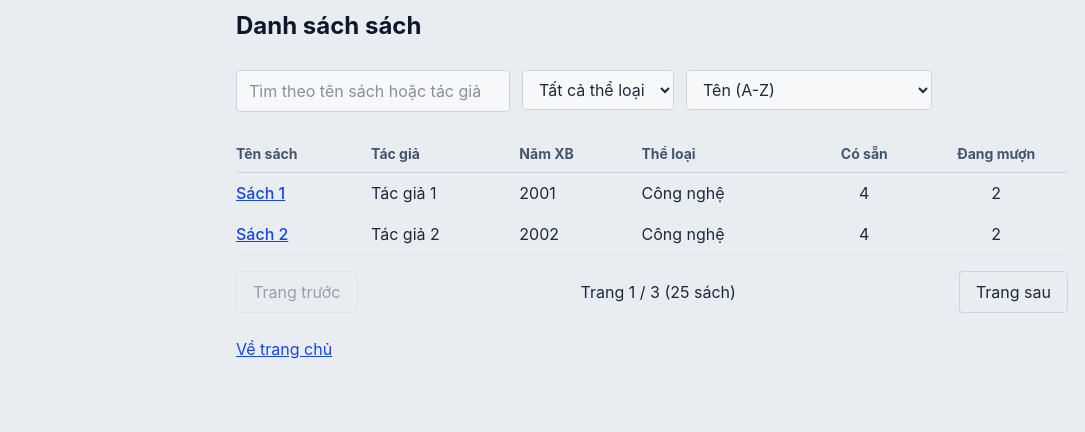
Test: BookList › keeps what the user keeps typing after the debounced URL update
Expected: the table is shown, [236,136,1068,255]
Type "abc" into the search field labelled "Tìm theo tên sách hoặc tác giả" at (373, 91), box [236,70,510,112]
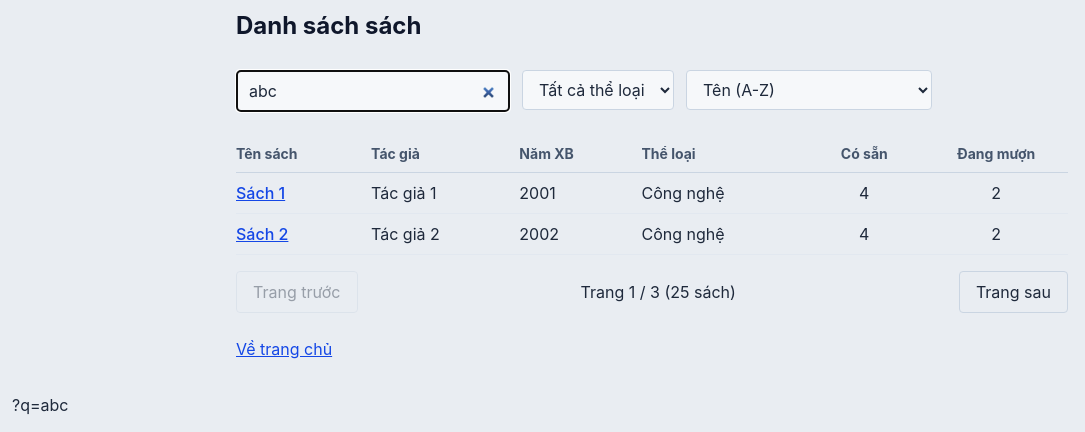
Expected: the text with test id "url" reads "?q=abc", [12,395,68,415]
Type "d" into the search field named "Tìm theo tên sách hoặc tác giả" at (373, 91), box [236,70,510,112]
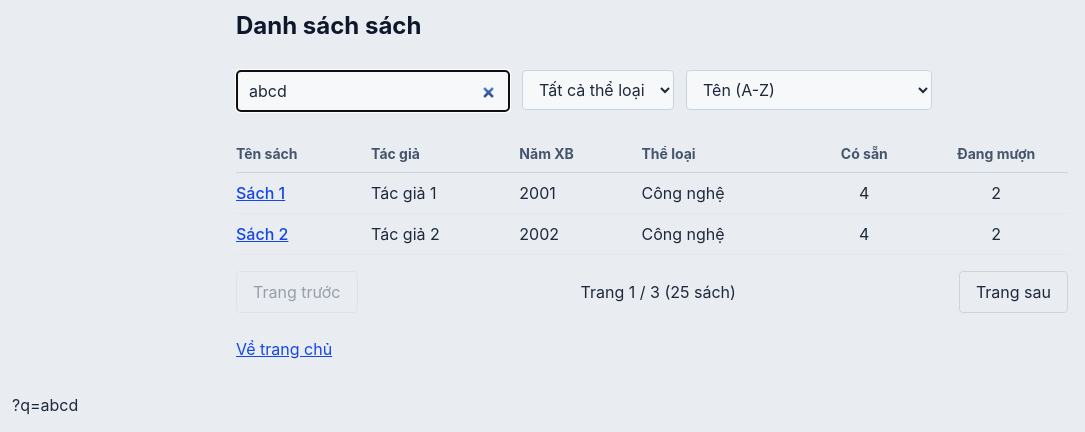
Expected: the text with test id "url" reads "?q=abcd", [12,395,78,415]
Expected: the search field named "Tìm theo tên sách hoặc tác giả" holds "abcd", [236,70,510,112]
